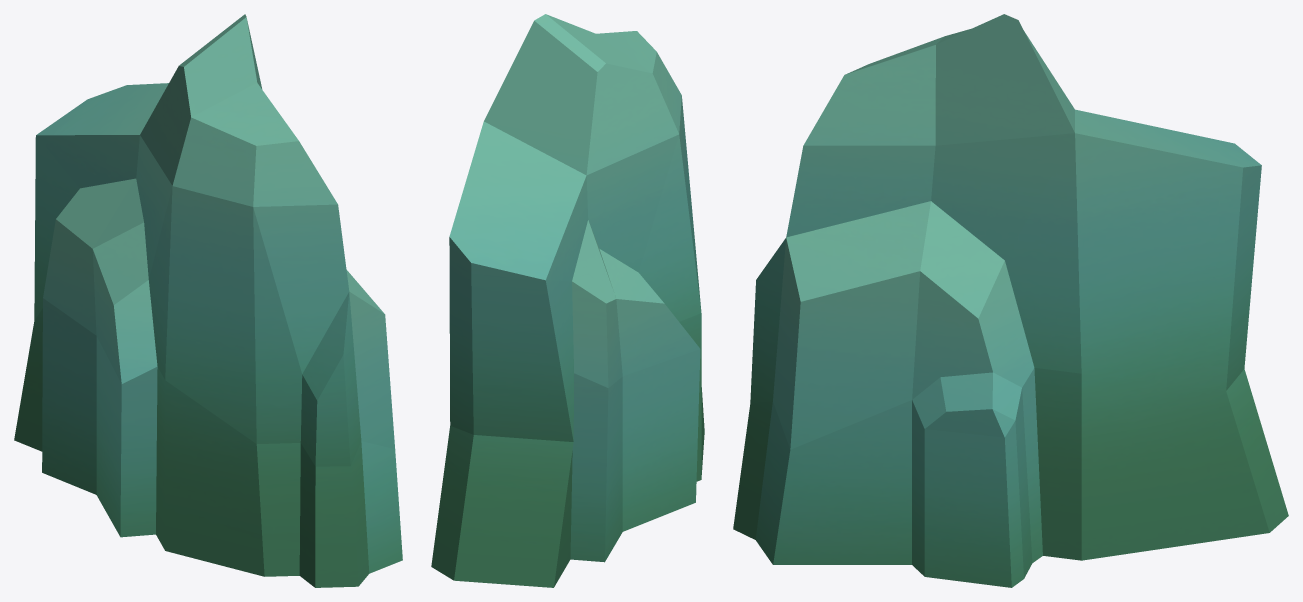
File: Cliffb_lush.FBX
The picture shows the model from 3 angles, left to right: view 1: azimuth 30°, elevation 25°; view 2: azimuth 150°, elevation 25°; view 3: azimuth 270°, elevation 25°; orthographic projection. The views are drawn at different scales.
Parts seen in each view (by area): view 1: cliffb_lush; view 2: cliffb_lush; view 3: cliffb_lush.
Boxes of the visible parts, x1,y1,x2,y2 form: cliffb_lush: (14,14,402,587); cliffb_lush: (431,14,704,587); cliffb_lush: (733,14,1288,587).
Bounding box in the file's own units: 13.53 × 26.46 × 25.4.
